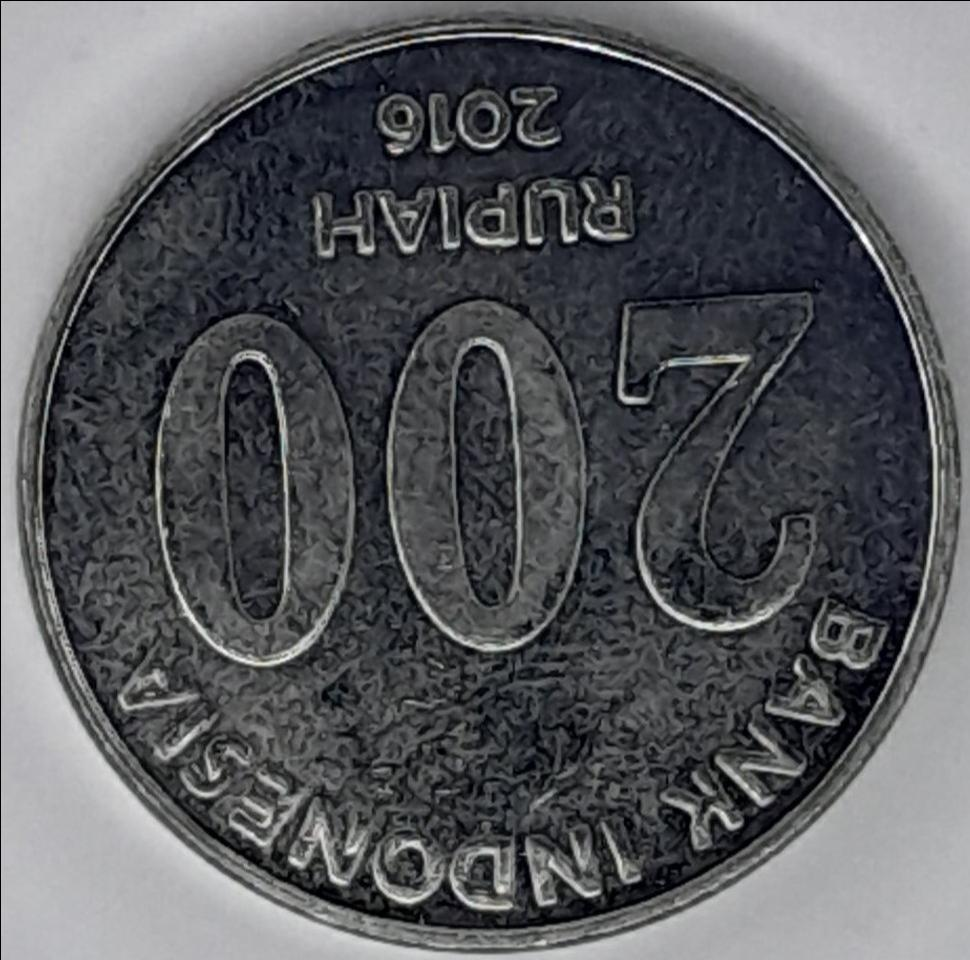coin_200_e2016: (0, 17, 970, 960)
